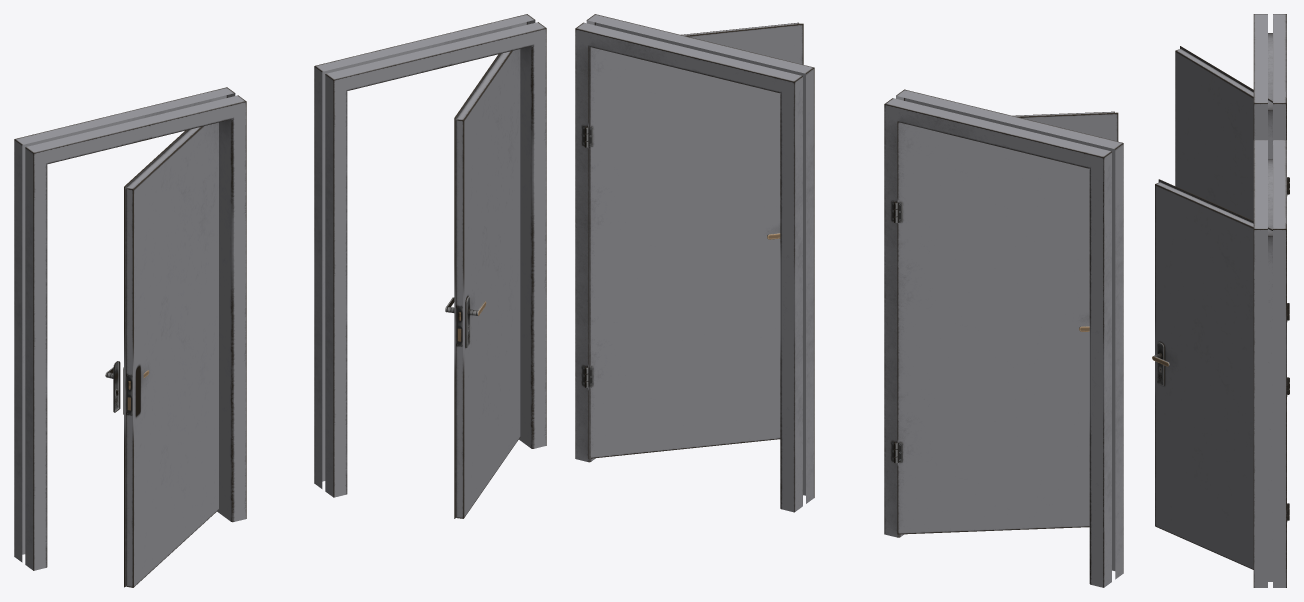
The picture shows the model from 3 angles, left to right: view 1: azimuth 30°, elevation 25°; view 2: azimuth 150°, elevation 25°; view 3: azimuth 270°, elevation 25°; orthographic projection. The views are drawn at different scales.
Visible parts, largest first — view 1: door_Mat_0, f_Mat_0, f_2_Mat_0, door_2_Mat_0; view 2: door_Mat_0, door_2_Mat_0, f_2_Mat_0, f_Mat_0; view 3: door_2_Mat_0, f_2_Mat_0, door_Mat_0, f_Mat_0.
Part boxes in pixels (x1,y1,x2,y2): door_Mat_0: (105,122,218,587); f_Mat_0: (14,87,246,570); f_2_Mat_0: (314,14,546,497); door_2_Mat_0: (445,49,520,518); door_Mat_0: (894,111,1118,534); door_2_Mat_0: (584,22,803,458); f_2_Mat_0: (575,14,814,512); f_Mat_0: (884,89,1123,587); door_2_Mat_0: (1152,179,1289,569); f_2_Mat_0: (1253,140,1287,587); door_Mat_0: (1175,46,1289,394); f_Mat_0: (1253,14,1287,396).
Size of the model in its own units: 310 by 241 by 83.82.
1 material, 1 textured.
